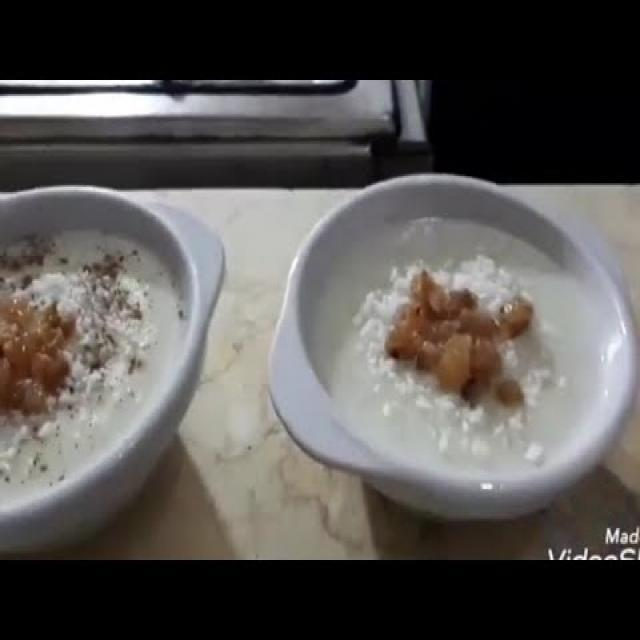roz blabn: (285, 211, 615, 511), (0, 179, 190, 543)
